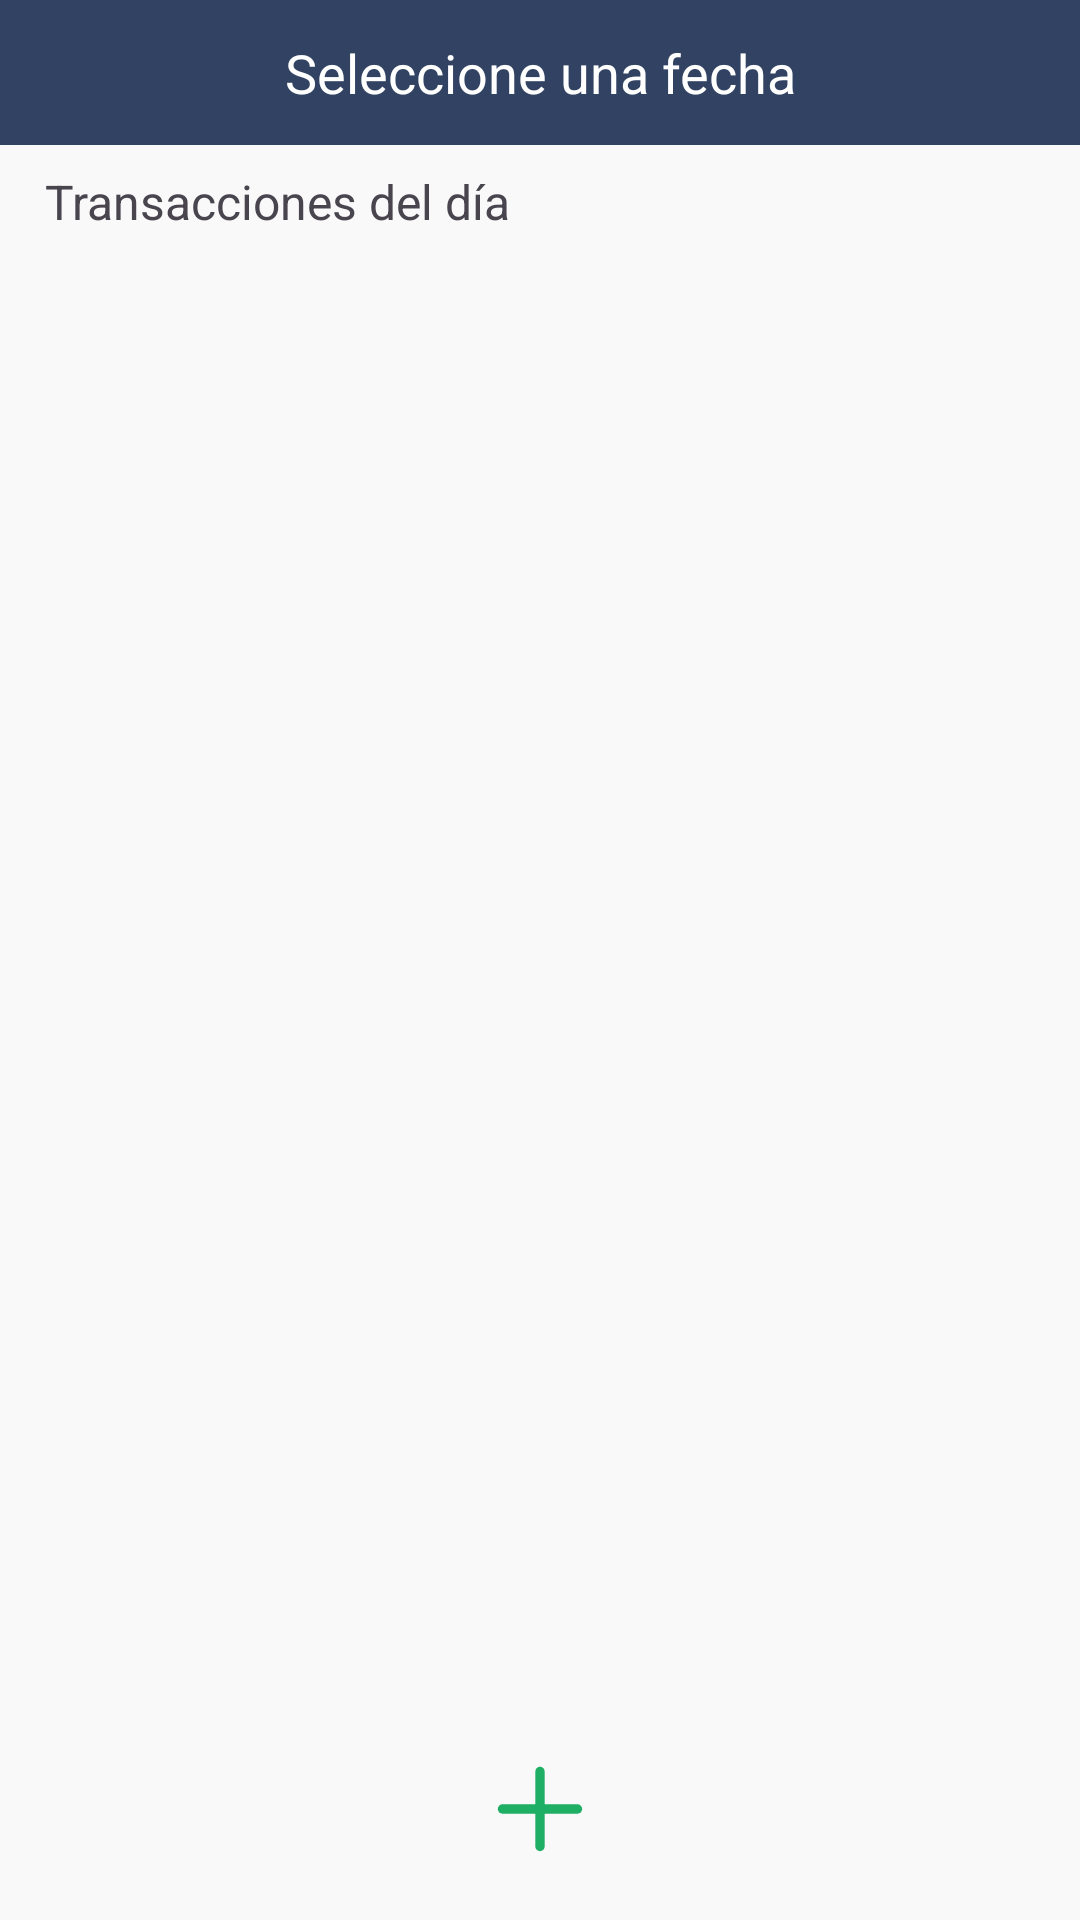

Where to tap for icons on this 1080 × 1920 app screen, as [x,y]:
add: [540,1809]
